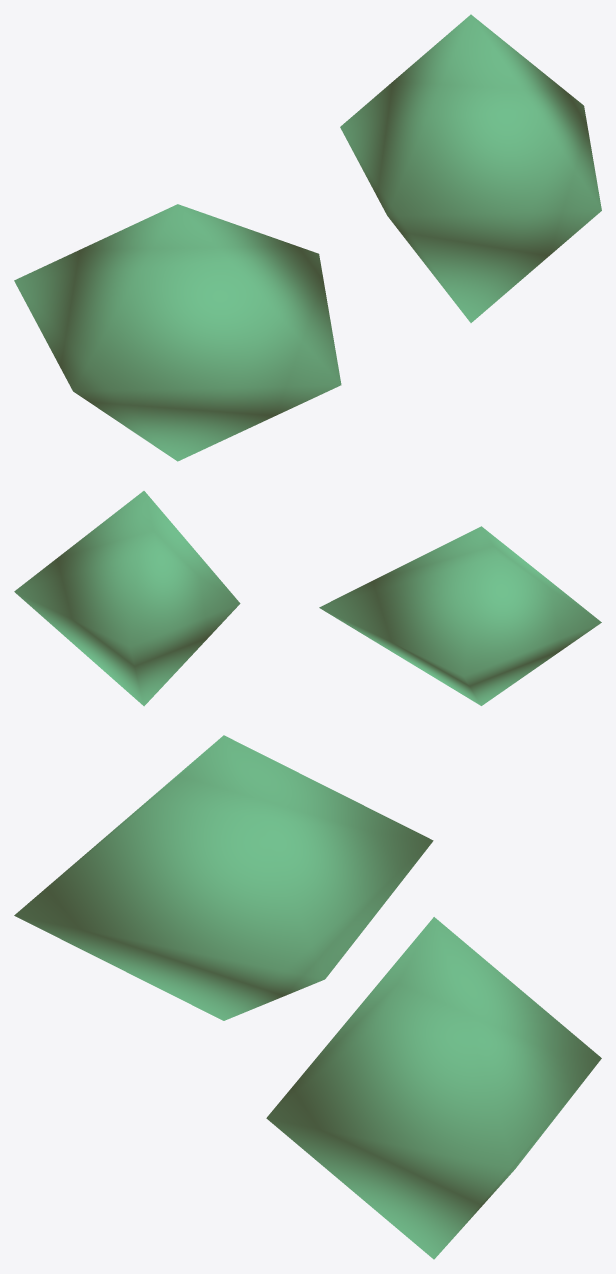
The model's file is scene-exchange.glb.
The picture shows the model from 3 angles, top to bottom: view 1: azimuth 30°, elevation 25°; view 2: azimuth 150°, elevation 25°; view 3: azimuth 270°, elevation 25°; orthographic projection. The views are drawn at different scales.
Parts seen in each view (by area): view 1: First instance, Second instance; view 2: First instance, Second instance; view 3: First instance, Second instance.
Boxes of the visible parts, x1,y1,x2,y2 form: First instance: [14, 204, 341, 461]; Second instance: [340, 14, 601, 322]; First instance: [319, 526, 601, 705]; Second instance: [14, 491, 240, 706]; First instance: [14, 735, 433, 1020]; Second instance: [266, 917, 601, 1259].
Size of the model in its own units: 4.94 by 2.16 by 3.35.
